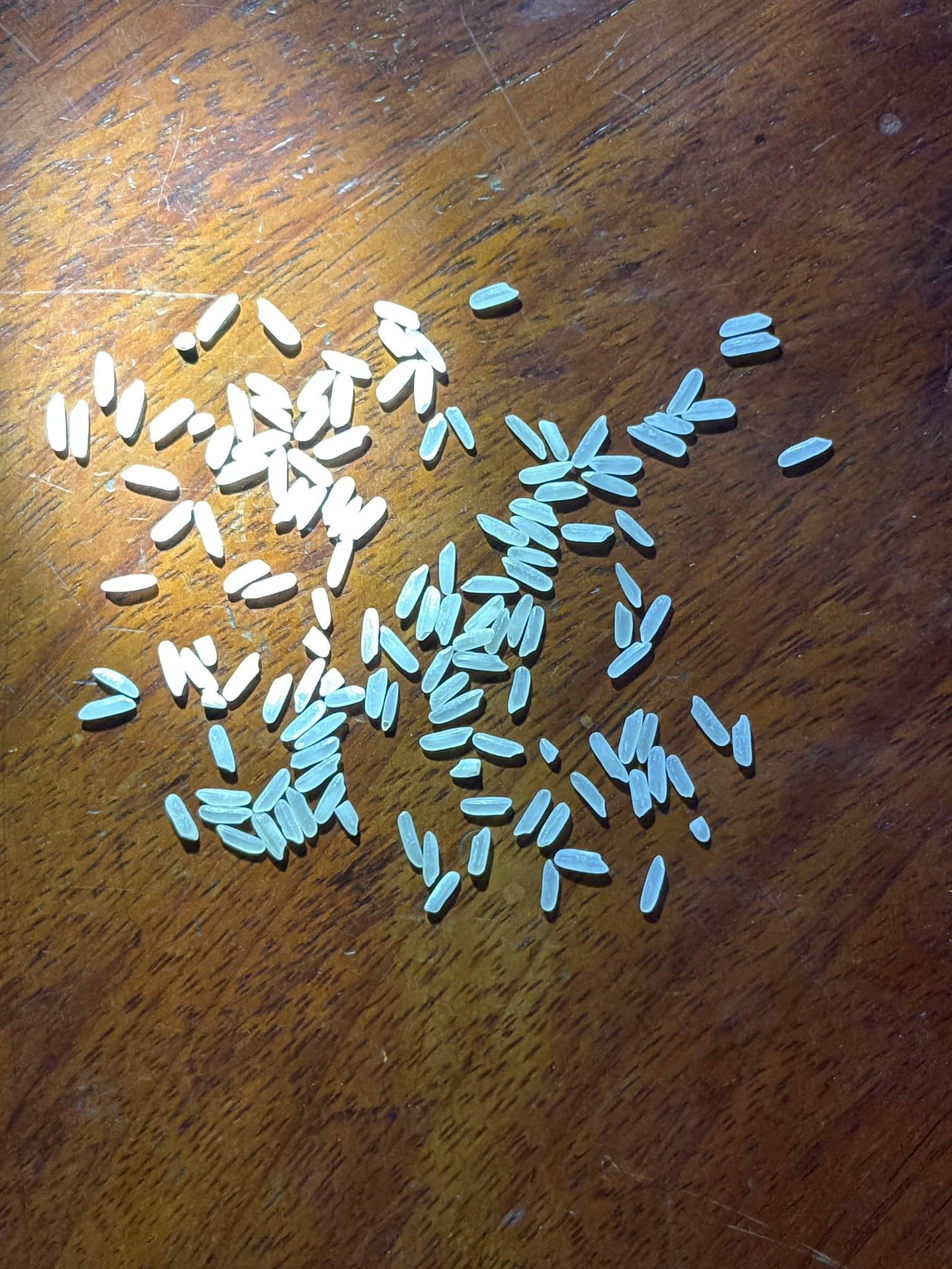Rice-th-y-nh: (256, 297, 301, 347), (627, 421, 687, 458), (195, 292, 239, 342), (148, 399, 196, 442), (505, 414, 548, 461), (379, 625, 420, 674), (690, 696, 729, 747), (314, 425, 369, 461), (571, 416, 609, 468), (150, 499, 194, 543), (394, 564, 429, 619), (376, 356, 416, 404), (193, 501, 225, 560), (222, 653, 261, 701), (666, 368, 704, 417), (347, 495, 388, 540), (280, 702, 327, 741), (115, 380, 146, 439), (776, 436, 833, 468), (241, 570, 298, 602), (296, 713, 348, 748), (430, 689, 483, 723), (222, 558, 272, 594), (294, 755, 340, 794), (287, 448, 333, 487), (513, 789, 551, 836), (245, 372, 293, 409), (321, 475, 355, 527), (178, 645, 218, 689), (293, 657, 325, 712), (293, 396, 331, 442), (271, 479, 309, 525), (589, 732, 626, 779), (511, 516, 560, 551), (77, 693, 136, 722), (122, 463, 179, 493), (156, 641, 187, 696), (570, 772, 607, 818), (313, 772, 346, 823), (502, 558, 553, 591), (164, 793, 199, 841), (720, 330, 780, 358), (412, 585, 443, 639), (215, 455, 269, 486), (410, 329, 447, 374), (296, 368, 334, 411), (421, 645, 455, 693), (477, 515, 528, 547), (261, 674, 293, 725), (607, 641, 651, 678), (253, 769, 290, 813), (225, 385, 254, 441), (251, 813, 287, 858), (320, 349, 372, 380), (293, 485, 327, 531), (614, 508, 654, 547), (464, 595, 505, 633), (638, 595, 671, 642), (396, 813, 424, 868), (235, 429, 288, 458), (92, 666, 140, 698), (509, 497, 560, 527), (251, 395, 293, 431), (583, 470, 637, 498), (554, 847, 608, 875), (506, 594, 535, 646), (290, 738, 340, 768), (286, 788, 317, 836), (537, 803, 570, 848), (325, 538, 354, 589), (428, 672, 469, 708), (204, 425, 236, 471), (469, 281, 519, 310), (377, 321, 416, 358), (374, 300, 421, 330), (435, 593, 462, 645), (329, 373, 355, 427), (424, 872, 459, 912), (473, 731, 523, 759), (640, 857, 665, 913), (216, 826, 265, 854), (208, 723, 236, 772), (419, 414, 448, 461), (67, 400, 90, 459), (618, 709, 644, 761), (729, 715, 755, 767), (266, 447, 290, 503), (588, 453, 644, 477), (519, 461, 574, 485), (196, 785, 251, 809), (92, 352, 116, 407), (331, 496, 363, 537), (614, 563, 643, 608), (539, 419, 570, 461), (274, 799, 303, 843), (46, 393, 68, 451), (645, 410, 694, 436), (519, 608, 545, 657), (665, 755, 695, 797), (685, 397, 735, 422), (719, 313, 771, 337), (560, 521, 614, 544), (412, 360, 435, 414), (420, 728, 473, 751), (447, 406, 475, 449), (507, 545, 557, 569), (454, 651, 508, 673), (635, 713, 659, 762), (507, 666, 531, 714), (364, 669, 387, 719), (628, 770, 652, 817), (199, 804, 250, 826), (486, 610, 511, 654), (101, 573, 156, 593), (360, 608, 380, 663), (534, 481, 586, 502), (539, 860, 560, 912), (468, 828, 491, 875), (464, 575, 518, 595), (648, 746, 667, 801), (437, 542, 457, 594), (325, 684, 365, 708), (454, 628, 494, 652), (381, 682, 400, 730), (310, 588, 332, 629), (422, 832, 439, 885), (461, 798, 511, 816), (302, 626, 331, 657), (335, 801, 359, 836), (614, 602, 632, 648), (319, 668, 345, 697), (186, 411, 215, 436), (194, 635, 217, 666), (450, 758, 481, 778), (689, 817, 711, 843), (201, 689, 227, 709), (539, 738, 559, 762)
